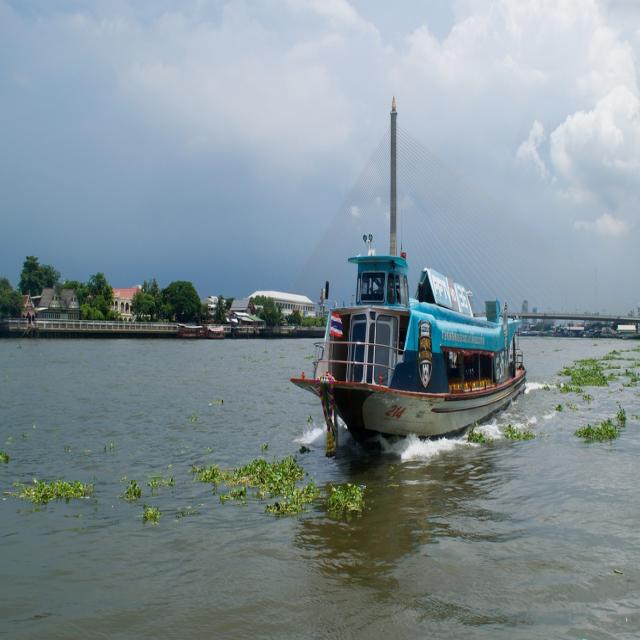houseboat: (300, 184, 532, 438)
